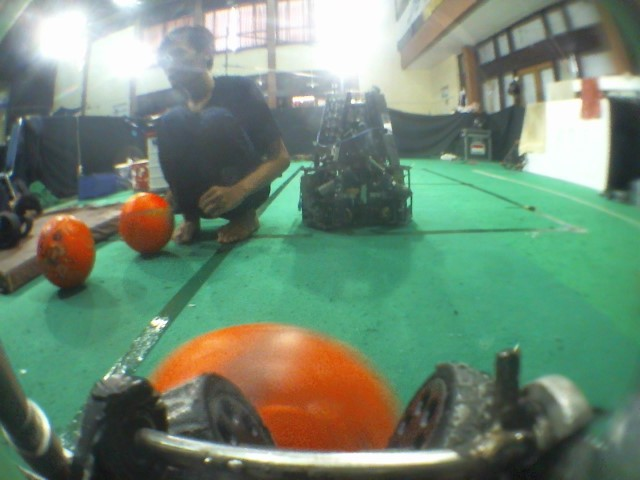ball: (149, 314, 412, 454), (34, 213, 104, 298), (115, 189, 182, 258)
